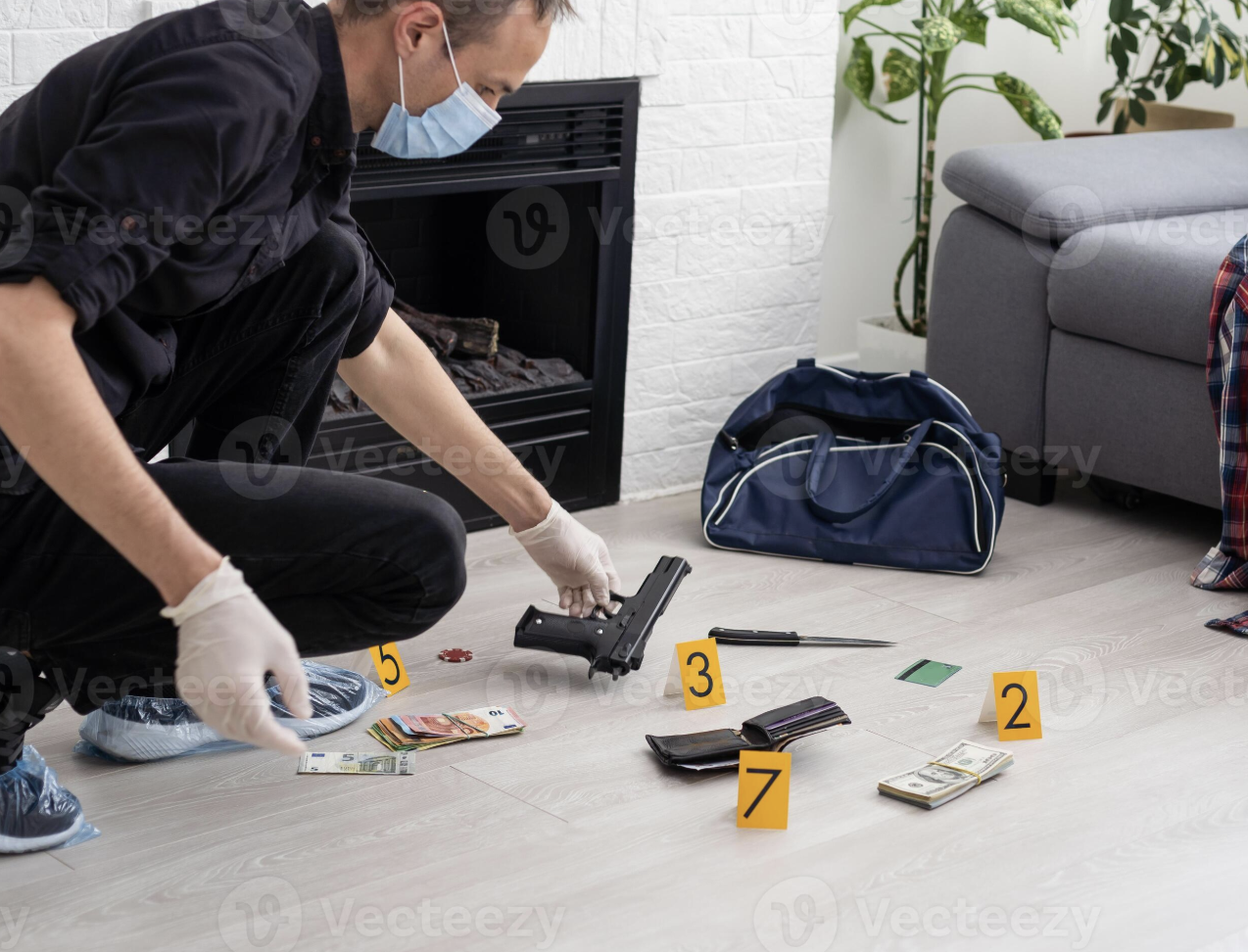gun_030: (508, 536, 696, 694)
